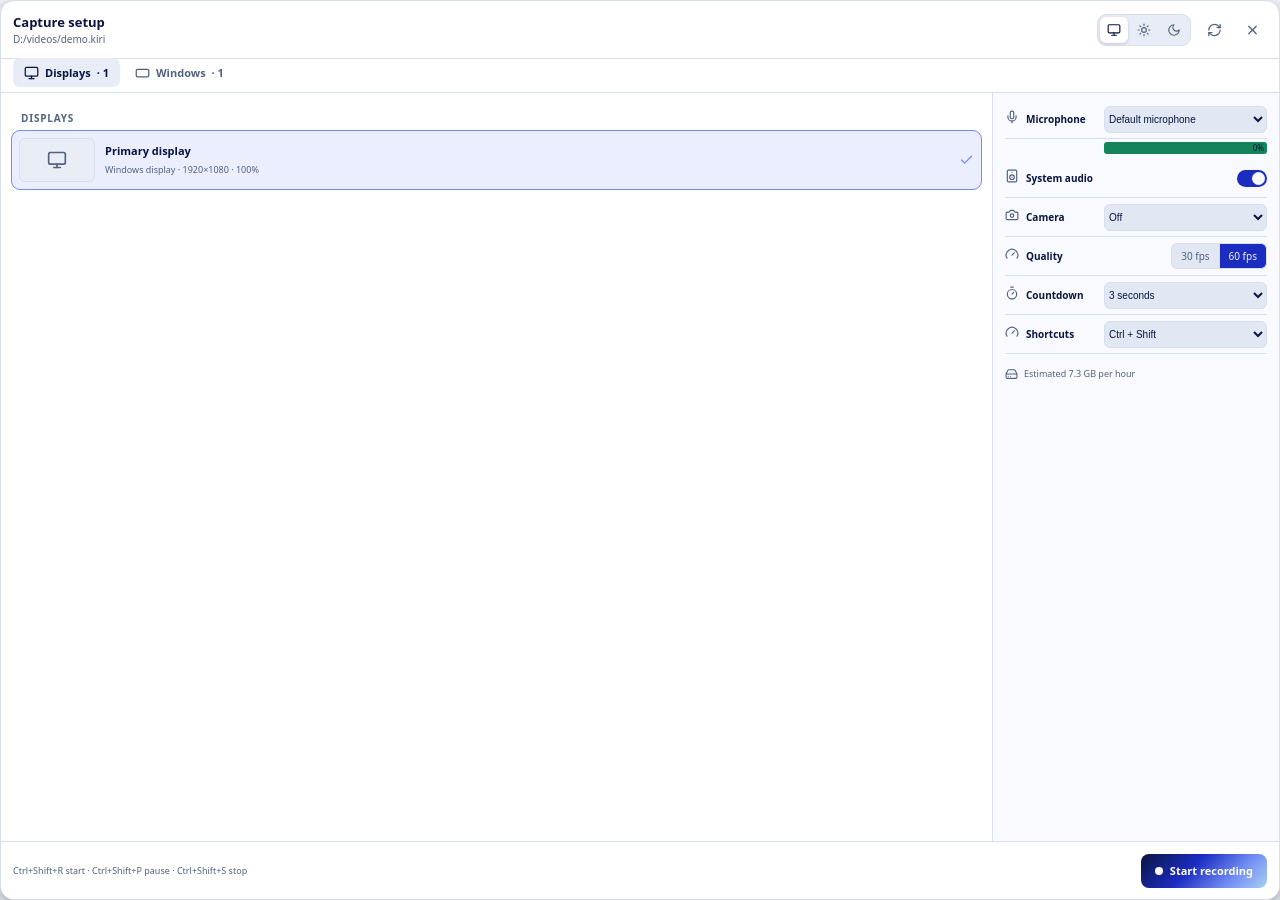
it: SourceSelector › switches between display and window tabs
expect the text "Primary display" is shown: met, box [105, 143, 191, 158]
Click the tab "Windows · 1".
click(180, 72)  # box [124, 58, 235, 87]
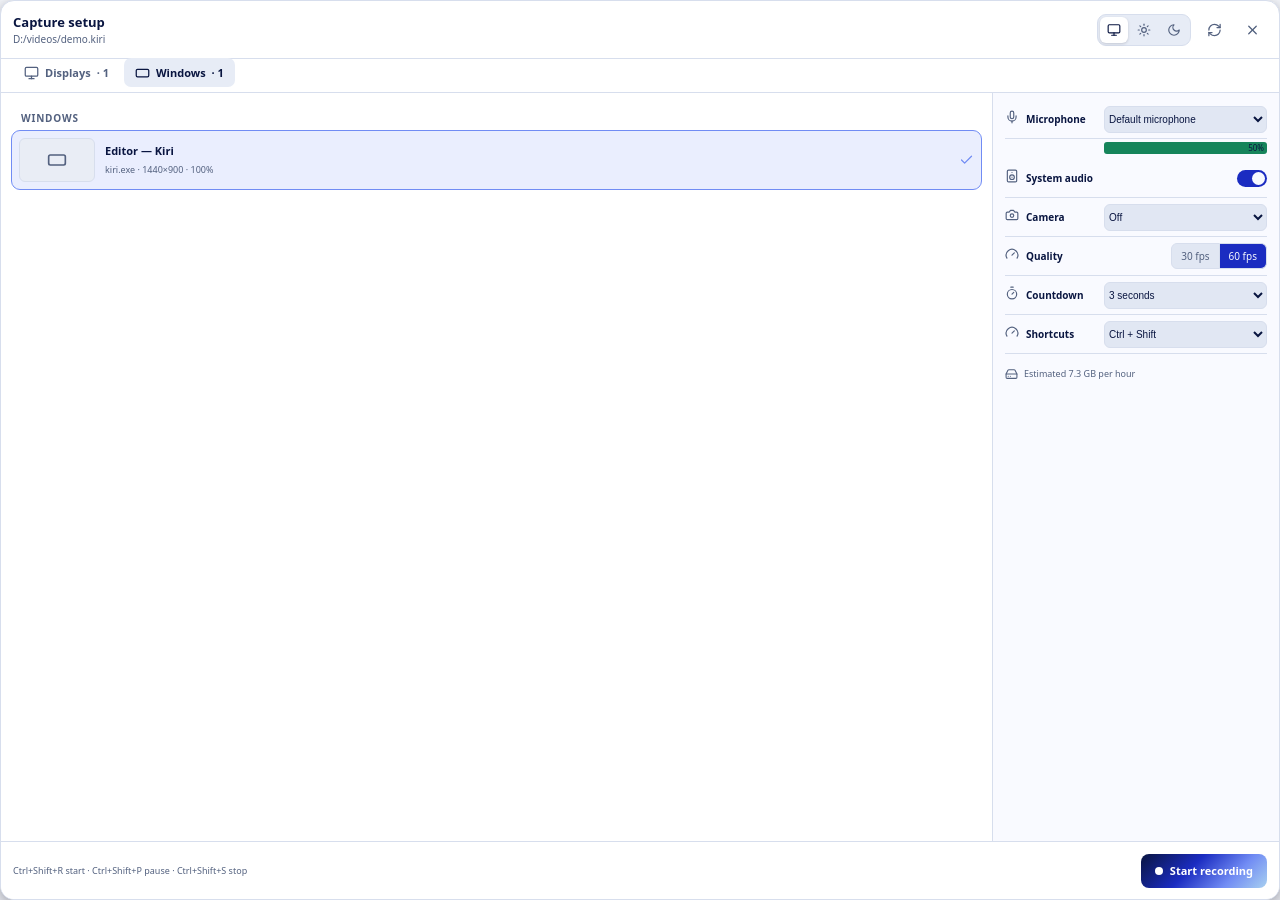
expect the text "Editor — Kiri" is shown: met, box [105, 143, 174, 158]
expect the button "Primary display" is gone: met
